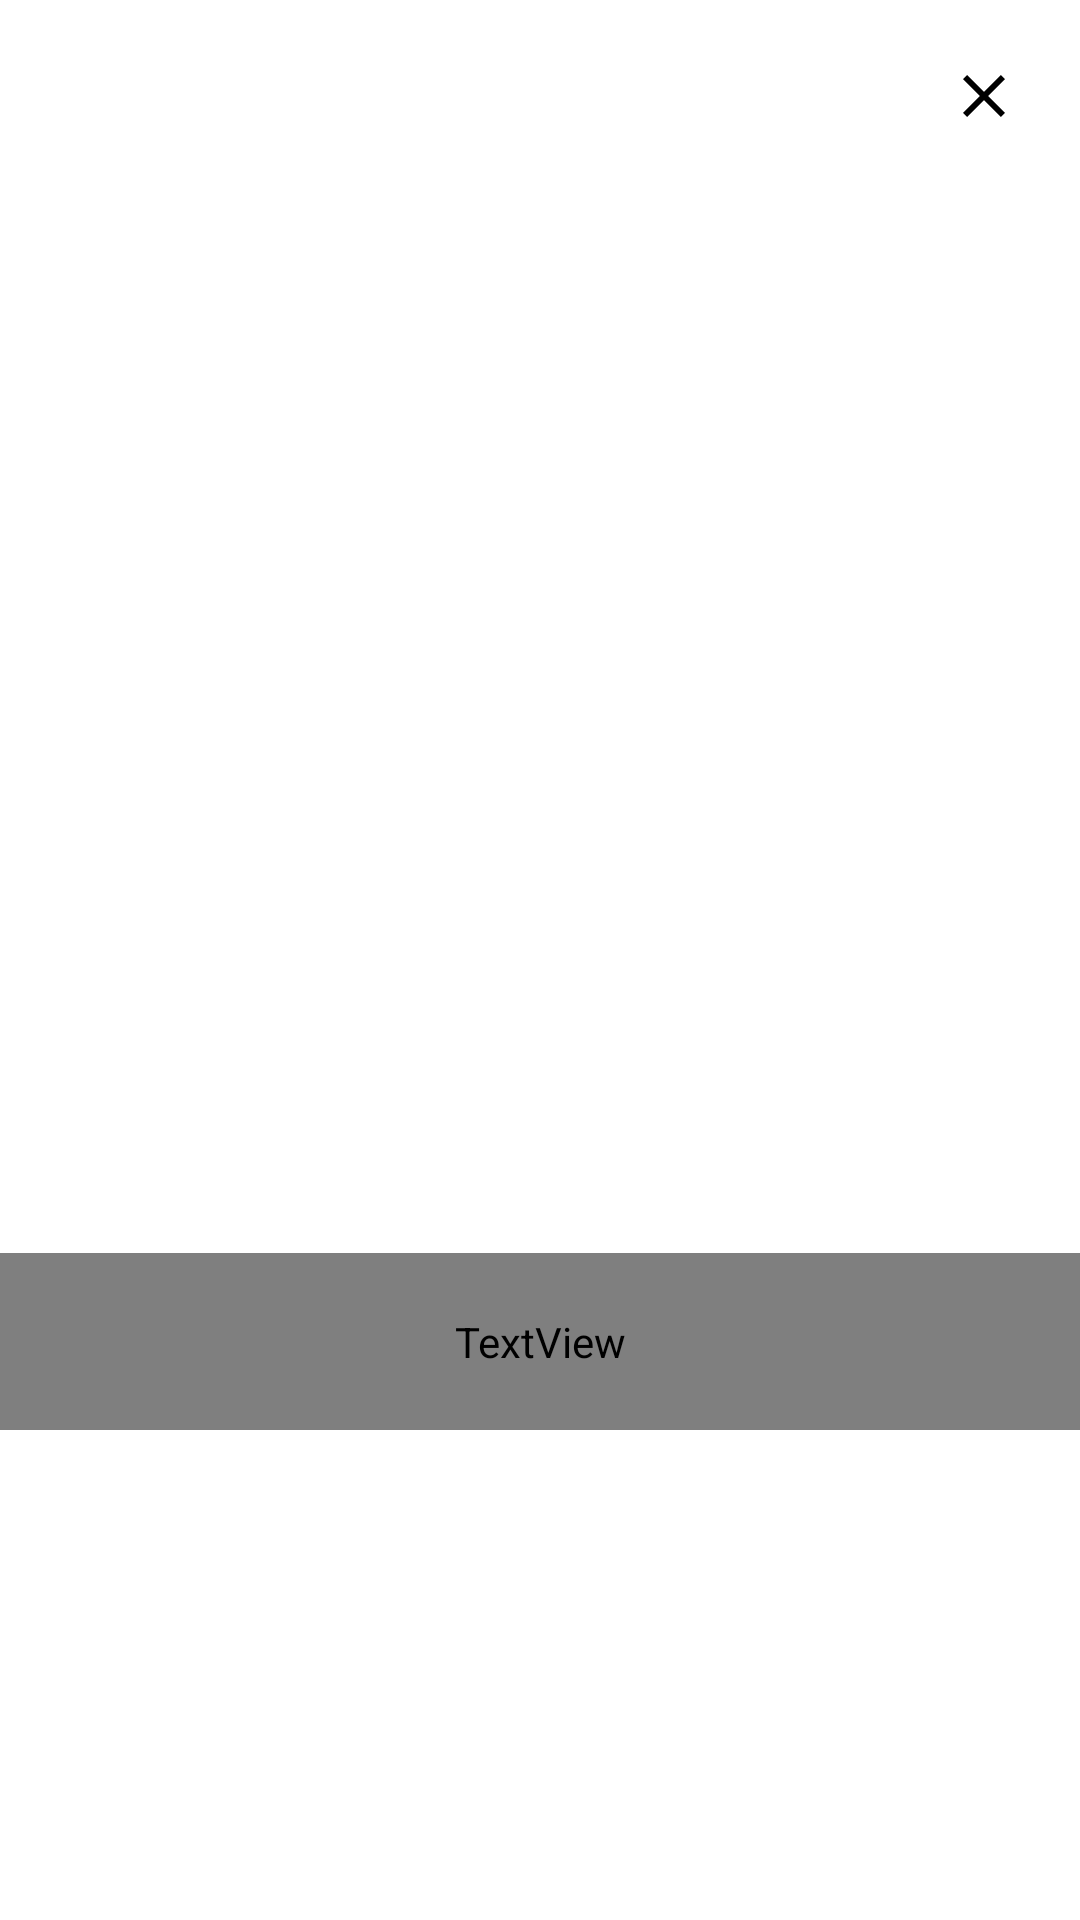

Screen size 1080px x 1920px. Icon name, then its box in pixels as (left=x1, top=y1, right=x2, bottom=y2):
閉じる: (left=963, top=75, right=1005, bottom=117)
